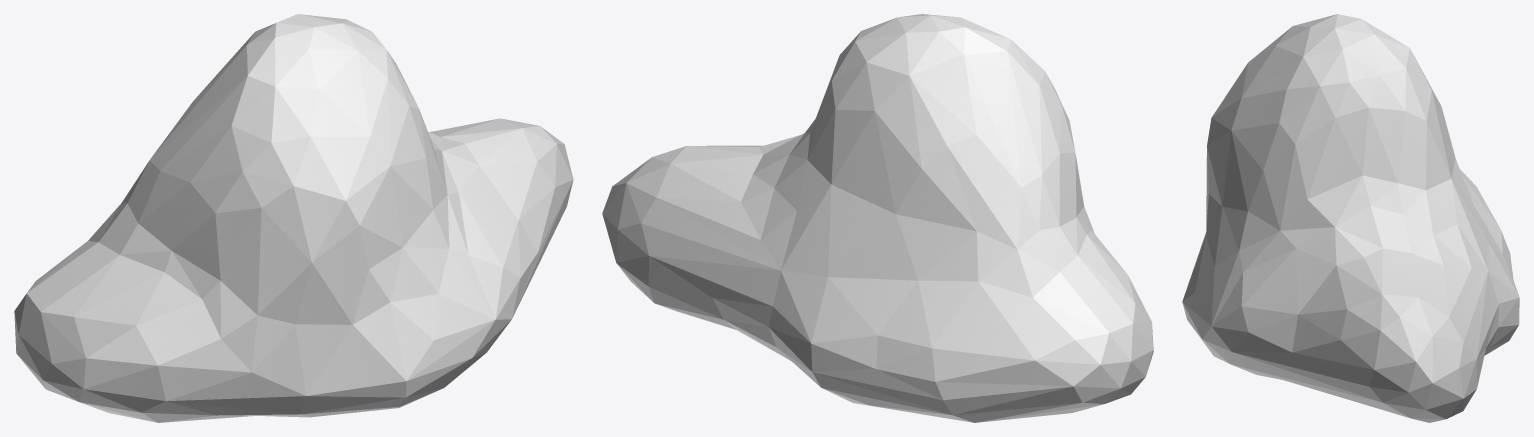
The model's file is Cloud_1.fbx.
3 views of the same model, side by side, from view 1: azimuth 30°, elevation 25°; view 2: azimuth 150°, elevation 25°; view 3: azimuth 270°, elevation 25° (orthographic). The views are drawn at different scales.
Parts seen in each view (by area): view 1: Group52455; view 2: Group52455; view 3: Group52455.
Part boxes in pixels (x1,y1,x2,y2): Group52455: [14, 14, 573, 422]; Group52455: [602, 14, 1153, 422]; Group52455: [1182, 14, 1519, 422].
Size of the model in its own units: 4528 by 2845 by 2632.
